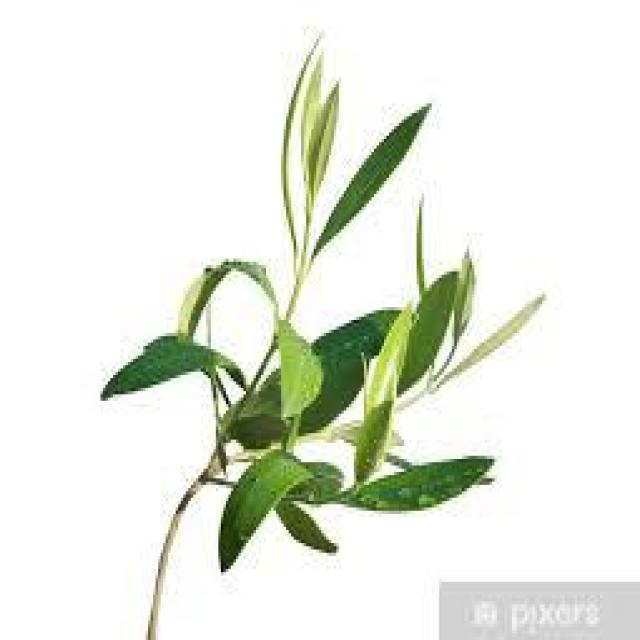Healthy: (314, 103, 427, 252)
